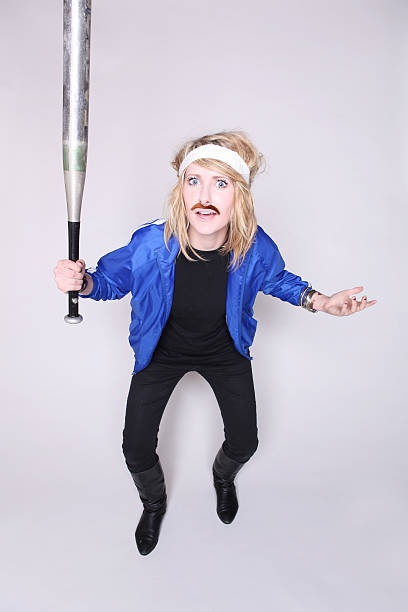bita: (58, 2, 93, 328)
